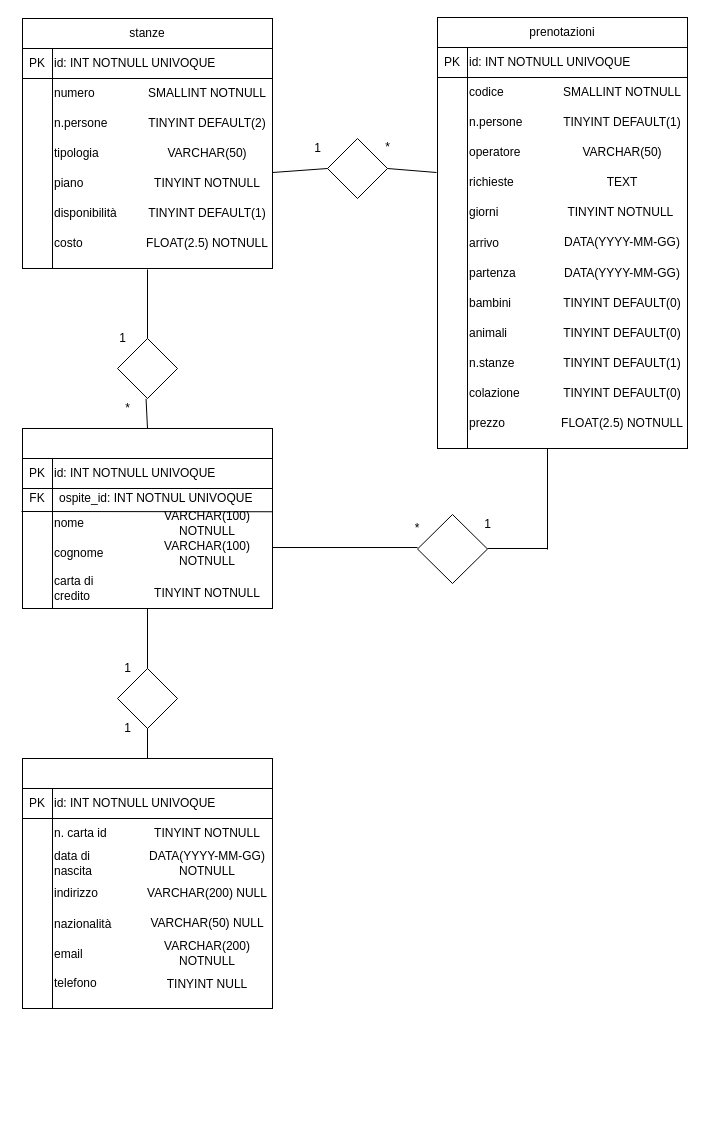
Some shapes in this 705 by 1124 pixel diagram are drawn without their labels. The shapes that lost their labels are listed below. From the top down, each one's centre as x and y in pixels, then its label:
(x=147, y=443): ospite
(x=147, y=773): dettagli ospite
